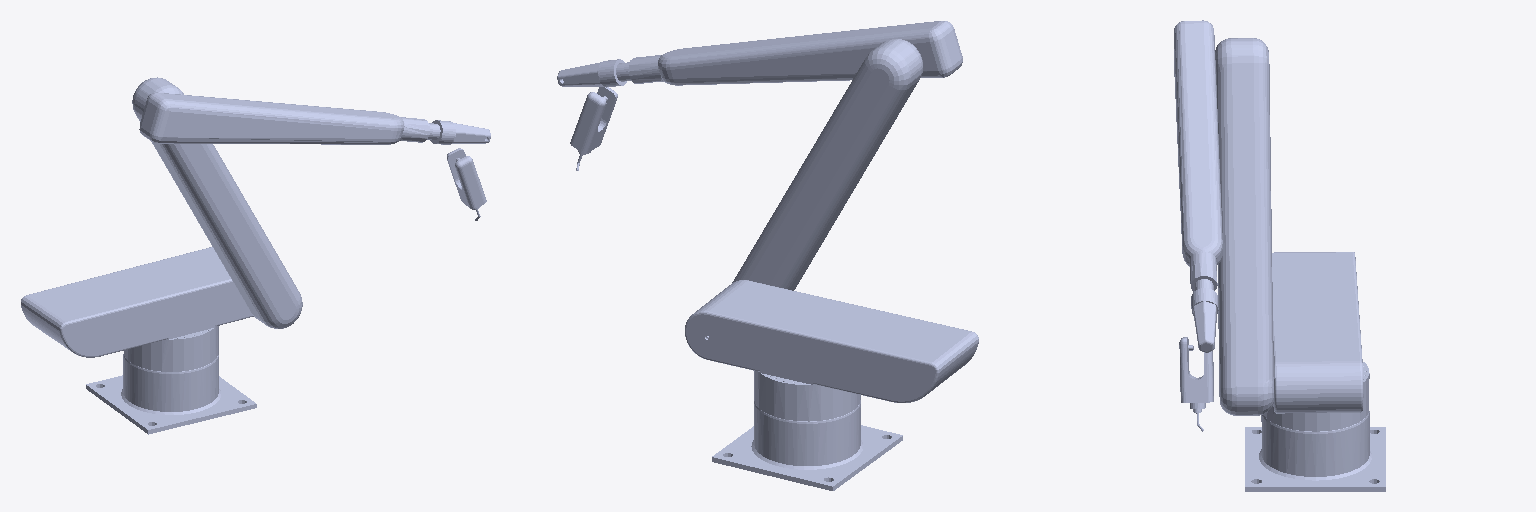
The robot description file, URDF, robot "project_model":
<?xml version="1.0" encoding="utf-8"?>
<!-- This URDF was automatically created by SolidWorks to URDF Exporter! Originally created by [author] ([email redacted]) 
     Commit Version: 1.6.0-4-g7f85cfe  Build Version: 1.6.7995.38578
     For more information, please see http://wiki.ros.org/sw_urdf_exporter -->
<robot
  name="project_model">
  <link
    name="base_link">
    <inertial>
      <origin
        xyz="0.0464613483877656 0.0140707076805598 0.0203480222228134"
        rpy="0 0 0" />
      <mass
        value="30.1843359271744" />
      <inertia
        ixx="0.502694922185776"
        ixy="-1.39844087411626E-18"
        ixz="2.92897502702651E-17"
        iyy="0.502694922185776"
        iyz="-1.43318530348414E-17"
        izz="0.740436652883217" />
    </inertial>
    <visual>
      <origin
        xyz="0 0 0"
        rpy="0 0 0" />
      <geometry>
        <mesh
          filename="package://project_model/meshes/base_link.STL" />
      </geometry>
      <material
        name="">
        <color
          rgba="0.792156862745098 0.819607843137255 0.933333333333333 1" />
      </material>
    </visual>
    <collision>
      <origin
        xyz="0 0 0"
        rpy="0 0 0" />
      <geometry>
        <mesh
          filename="package://project_model/meshes/base_link.STL" />
      </geometry>
    </collision>
  </link>
  <joint
    name="Joint6"
    type="revolute">
    <origin
      xyz="0.0094648 0.014522 0.24788"
      rpy="-1.4549 0.92347 2.6583" />
    <parent
      link="Link5" />
    <child
      link="Link6" />
    <axis
      xyz="0 0 1" />
    <limit
      lower="-6.1087"
      upper="6.1087"
      effort="0"
      velocity="0" />
  </joint>
  <link
    name="Link1">
    <inertial>
      <origin
        xyz="0.0793572464538077 -0.00124591678102029 0.220458925407225"
        rpy="0 0 0" />
      <mass
        value="85.6566874789417" />
      <inertia
        ixx="1.54688392454027"
        ixy="-0.0456850642678115"
        ixz="-0.35476451485234"
        iyy="6.7389510767348"
        iyz="0.00394956847462728"
        izz="6.77710018420679" />
    </inertial>
    <visual>
      <origin
        xyz="0 0 0"
        rpy="0 0 0" />
      <geometry>
        <mesh
          filename="package://project_model/meshes/Link1.STL" />
      </geometry>
      <material
        name="">
        <color
          rgba="0.792156862745098 0.819607843137255 0.933333333333333 1" />
      </material>
    </visual>
    <collision>
      <origin
        xyz="0 0 0"
        rpy="0 0 0" />
      <geometry>
        <mesh
          filename="package://project_model/meshes/Link1.STL" />
      </geometry>
    </collision>
  </link>
  <joint
    name="Joint1"
    type="revolute">
    <origin
      xyz="0.046461 0.014071 0.12658"
      rpy="0 0 -3.1126" />
    <parent
      link="base_link" />
    <child
      link="Link1" />
    <axis
      xyz="0 0 1" />
    <limit
      lower="-3.1416"
      upper="3.1416"
      effort="0"
      velocity="0" />
  </joint>
  <link
    name="Link2">
    <inertial>
      <origin
        xyz="-0.589792449130738 0.0728314824790871 0.262790079429743"
        rpy="0 0 0" />
      <mass
        value="51.8329786183893" />
      <inertia
        ixx="0.477806676271798"
        ixy="0.9926300522246"
        ixz="0.209693869166863"
        iyy="8.39359110079786"
        iyz="-0.0258943665927912"
        izz="8.45194963606366" />
    </inertial>
    <visual>
      <origin
        xyz="0 0 0"
        rpy="0 0 0" />
      <geometry>
        <mesh
          filename="package://project_model/meshes/Link2.STL" />
      </geometry>
      <material
        name="">
        <color
          rgba="0.792156862745098 0.819607843137255 0.933333333333333 1" />
      </material>
    </visual>
    <collision>
      <origin
        xyz="0 0 0"
        rpy="0 0 0" />
      <geometry>
        <mesh
          filename="package://project_model/meshes/Link2.STL" />
      </geometry>
    </collision>
  </link>
  <joint
    name="Joint2"
    type="revolute">
    <origin
      xyz="-0.34871 0 0.25746"
      rpy="1.5708 0.95413 3.1416" />
    <parent
      link="Link1" />
    <child
      link="Link2" />
    <axis
      xyz="0 0 1" />
    <limit
      lower="-3.2289"
      upper="1.1345"
      effort="0"
      velocity="0" />
  </joint>
  <link
    name="Link3">
    <inertial>
      <origin
        xyz="-0.534970937540537 -0.127977225216139 0.075603587101308"
        rpy="0 0 0" />
      <mass
        value="27.6329069261582" />
      <inertia
        ixx="0.105723642243394"
        ixy="-0.133061351411289"
        ixz="-0.00842003783200042"
        iyy="3.88562710428054"
        iyz="-0.000293404637660863"
        izz="3.89906166668563" />
    </inertial>
    <visual>
      <origin
        xyz="0 0 0"
        rpy="0 0 0" />
      <geometry>
        <mesh
          filename="package://project_model/meshes/Link3.STL" />
      </geometry>
      <material
        name="">
        <color
          rgba="0.792156862745098 0.819607843137255 0.933333333333333 1" />
      </material>
    </visual>
    <collision>
      <origin
        xyz="0 0 0"
        rpy="0 0 0" />
      <geometry>
        <mesh
          filename="package://project_model/meshes/Link3.STL" />
      </geometry>
    </collision>
  </link>
  <joint
    name="Joint3"
    type="revolute">
    <origin
      xyz="-1.20000000000001 0 0.36512066324591"
      rpy="0 0 -2.50263118864038" />
    <parent
      link="Link2" />
    <child
      link="Link3" />
    <axis
      xyz="0 0 1" />
    <limit
      lower="-3.194"
      upper="3.0543"
      effort="0"
      velocity="0" />
  </joint>
  <link
    name="Link4">
    <inertial>
      <origin
        xyz="-0.0991213138241323 0.0535427397968273 0.232880360393054"
        rpy="0 0 0" />
      <mass
        value="0.850036432245057" />
      <inertia
        ixx="0.00243540489143828"
        ixy="5.42101086242752E-20"
        ixz="-1.0448998437329E-17"
        iyy="0.00243540489143828"
        iyz="1.09504419421036E-17"
        izz="0.000840064820813022" />
    </inertial>
    <visual>
      <origin
        xyz="0 0 0"
        rpy="0 0 0" />
      <geometry>
        <mesh
          filename="package://project_model/meshes/Link4.STL" />
      </geometry>
      <material
        name="">
        <color
          rgba="0.792156862745098 0.819607843137255 0.933333333333333 1" />
      </material>
    </visual>
    <collision>
      <origin
        xyz="0 0 0"
        rpy="0 0 0" />
      <geometry>
        <mesh
          filename="package://project_model/meshes/Link4.STL" />
      </geometry>
    </collision>
  </link>
  <joint
    name="Joint4"
    type="revolute">
    <origin
      xyz="-1.14996945665964 -0.0398016920240907 0.0752588050980933"
      rpy="-1.5707963267949 0.495267839274662 1.5707963267949" />
    <parent
      link="Link3" />
    <child
      link="Link4" />
    <axis
      xyz="0 0 1" />
    <limit
      lower="-6.10865238198015"
      upper="6.10865238198015"
      effort="0"
      velocity="0" />
  </joint>
  <link
    name="Link5">
    <inertial>
      <origin
        xyz="0.0900280533008435 -0.0677253191155266 0.243874852340006"
        rpy="0 0 0" />
      <mass
        value="1.02538589602909" />
      <inertia
        ixx="0.00421724348647574"
        ixy="2.57301639363728E-06"
        ixz="6.86480086565405E-08"
        iyy="0.00421953119624286"
        iyz="3.04276409059069E-08"
        izz="0.00080534690693793" />
    </inertial>
    <visual>
      <origin
        xyz="0 0 0"
        rpy="0 0 0" />
      <geometry>
        <mesh
          filename="package://project_model/meshes/Link5.STL" />
      </geometry>
      <material
        name="">
        <color
          rgba="0.792156862745098 0.819607843137255 0.933333333333333 1" />
      </material>
    </visual>
    <collision>
      <origin
        xyz="0 0 0"
        rpy="0 0 0" />
      <geometry>
        <mesh
          filename="package://project_model/meshes/Link5.STL" />
      </geometry>
    </collision>
  </link>
  <joint
    name="Joint5"
    type="revolute">
    <origin
      xyz="0 0 0.146319270574909"
      rpy="0 0 -2.99190622753308" />
    <parent
      link="Link4" />
    <child
      link="Link5" />
    <axis
      xyz="0 0 1" />
    <limit
      lower="-2.0943951023932"
      upper="2.0943951023932"
      effort="0"
      velocity="0" />
  </joint>
  <link
    name="Link6">
    <inertial>
      <origin
        xyz="7.86188403267829E-09 -0.105371321991731 -0.0162962824427068"
        rpy="0 0 0" />
      <mass
        value="1.55208868418314" />
      <inertia
        ixx="0.00977140293103126"
        ixy="1.39499086576882E-09"
        ixz="1.00101813773831E-11"
        iyy="0.0031307636496264"
        iyz="3.58711938757837E-09"
        izz="0.0081378067900355" />
    </inertial>
    <visual>
      <origin
        xyz="0 0 0"
        rpy="0 0 0" />
      <geometry>
        <mesh
          filename="package://project_model/meshes/Link6.STL" />
      </geometry>
      <material
        name="">
        <color
          rgba="0.792156862745098 0.819607843137255 0.933333333333333 1" />
      </material>
    </visual>
    <collision>
      <origin
        xyz="0 0 0"
        rpy="0 0 0" />
      <geometry>
        <mesh
          filename="package://project_model/meshes/Link6.STL" />
      </geometry>
    </collision>
  </link>
  <!-- <joint
    name="Joint6"
    type="continuous">
    <origin
      xyz="0.0811994599627952 -0.0813810989326457 0.34362940588718"
      rpy="-1.65079803320452 0.509746721592292 2.52654531819412" />
    <parent
      link="Link5" />
    <child
      link="Link6" />
    <axis
      xyz="-0.0680762054592881 -0.121386911490105 0.99026806874157" />
    <limit
      lower="-6.1087"
      upper="6.1087"
      effort="0"
      velocity="0" />
  </joint> -->
  <link
    name="Endeffektor">
    <inertial>
      <origin
        xyz="0.138898619231038 0.191893787490268 -0.000264983107528205"
        rpy="0 0 0" />
      <mass
        value="0.0538557964417455" />
      <inertia
        ixx="3.19961693378641E-05"
        ixy="-7.69019198907528E-07"
        ixz="1.93039857011314E-06"
        iyy="2.95486578988522E-05"
        iyz="7.13263583758963E-06"
        izz="1.4516992585414E-05" />
    </inertial>
    <visual>
      <origin
        xyz="0 0 0"
        rpy="0 0 0" />
      <geometry>
        <mesh
          filename="package://project_model/meshes/Endeffektor.STL" />
      </geometry>
      <material
        name="">
        <color
          rgba="0.792156862745098 0.819607843137255 0.933333333333333 1" />
      </material>
    </visual>
    <collision>
      <origin
        xyz="0 0 0"
        rpy="0 0 0" />
      <geometry>
        <mesh
          filename="package://project_model/meshes/Endeffektor.STL" />
      </geometry>
    </collision>
  </link>
  <joint
    name="Endeffektor_Joint"
    type="revolute">
    <origin
      xyz="0.215447561272202 -0.128958924945047 -0.0318164852676601"
      rpy="1.44045339925499 0.872427010505441 -2.82137203630719" />
    <parent
      link="Link6" />
    <child
      link="Endeffektor" />
    <axis
      xyz="0 0 1" />
    <limit
      lower="0"
      upper="0"
      effort="0"
      velocity="0" />
  </joint>
</robot>

--- What the picture shows (computed from the rendered views, not written in the file) ---
3 views of the same robot in one strip: view 1: azimuth 30°, elevation 25°; view 2: azimuth 150°, elevation 25°; view 3: azimuth 270°, elevation 25° (orthographic).
Robot: project_model — 8 links, 7 joints (7 revolute); root link base_link; default pose: all joints at 0.
Visible links, largest first — view 1: Link1, Link2, Link3, base_link, Link6, Link5, Link4; view 2: Link1, Link2, Link3, base_link, Link6, Link5, Link4; view 3: Link2, Link1, Link3, base_link, Link6, Link5.
Boxes of the visible links, x1,y1,x2,y2 form: Link1: (21, 247, 253, 371); Link2: (132, 77, 302, 328); Link3: (139, 92, 429, 144); base_link: (86, 354, 256, 434); Link6: (447, 148, 486, 209); Link5: (450, 121, 490, 144); Link4: (427, 120, 454, 144); Link1: (685, 280, 978, 421); Link2: (732, 39, 922, 290); Link3: (628, 21, 962, 85); base_link: (712, 400, 902, 490); Link6: (570, 87, 617, 152); Link5: (557, 62, 606, 87); Link4: (599, 59, 631, 86); Link2: (1215, 38, 1273, 415); Link1: (1264, 252, 1369, 431); Link3: (1174, 20, 1222, 291); base_link: (1245, 411, 1385, 491); Link6: (1179, 337, 1213, 407); Link5: (1192, 300, 1218, 352).
Size in the robot's own frame: 1.95 by 0.7875 by 1.65 metres.
8 mesh visuals loaded from 8 distinct referenced files (8 binary STL).